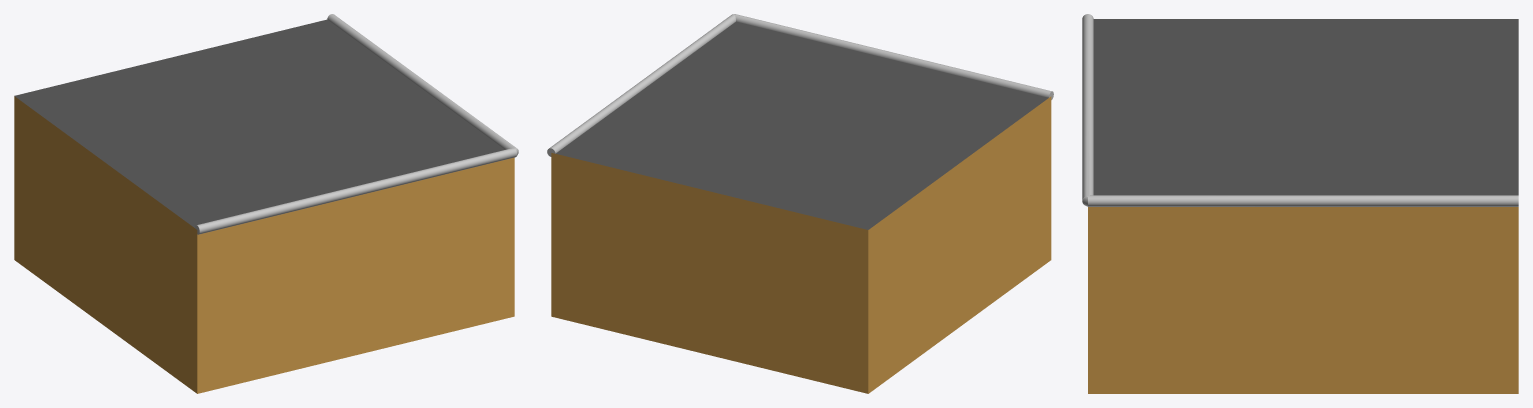
File: Skate_Box_Double_Rail_01.FBX
The picture shows the model from 3 angles, left to right: view 1: azimuth 30°, elevation 25°; view 2: azimuth 150°, elevation 25°; view 3: azimuth 270°, elevation 25°; orthographic projection. The views are drawn at different scales.
Visible parts, largest first — view 1: Skate_Box_Double_Rail_01; view 2: Skate_Box_Double_Rail_01; view 3: Skate_Box_Double_Rail_01.
Boxes of the visible parts, <box> form: Skate_Box_Double_Rail_01: <box>14,14,518,393</box>; Skate_Box_Double_Rail_01: <box>547,14,1053,393</box>; Skate_Box_Double_Rail_01: <box>1082,14,1518,393</box>.
Bounding box in the file's own units: 3.04 × 1.52 × 3.04.
